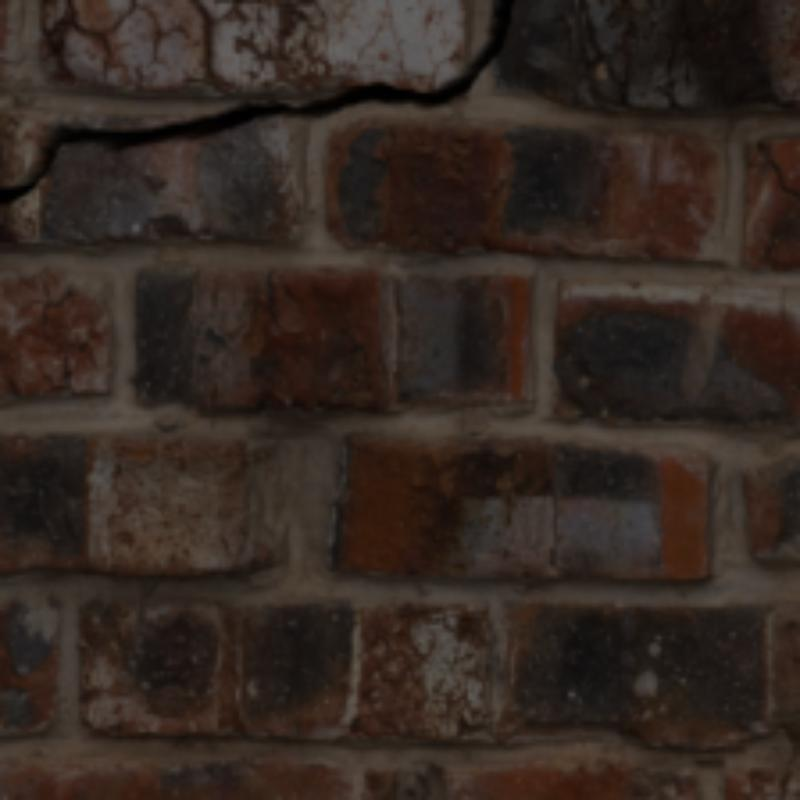crack: (0, 0, 511, 204), (54, 0, 129, 79), (189, 0, 232, 89), (761, 146, 796, 196)
